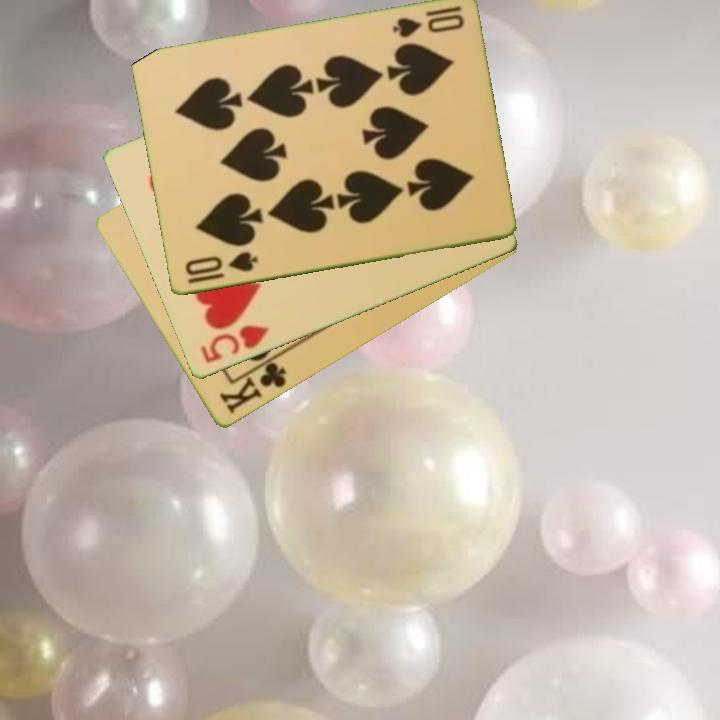10s: (388, 3, 467, 41), (181, 248, 261, 279)
5h: (196, 322, 272, 367)
Kc: (215, 352, 289, 417)
